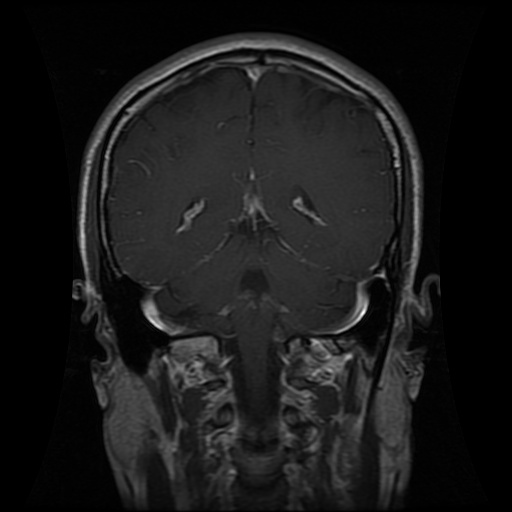glioma: (235, 267, 274, 312)
